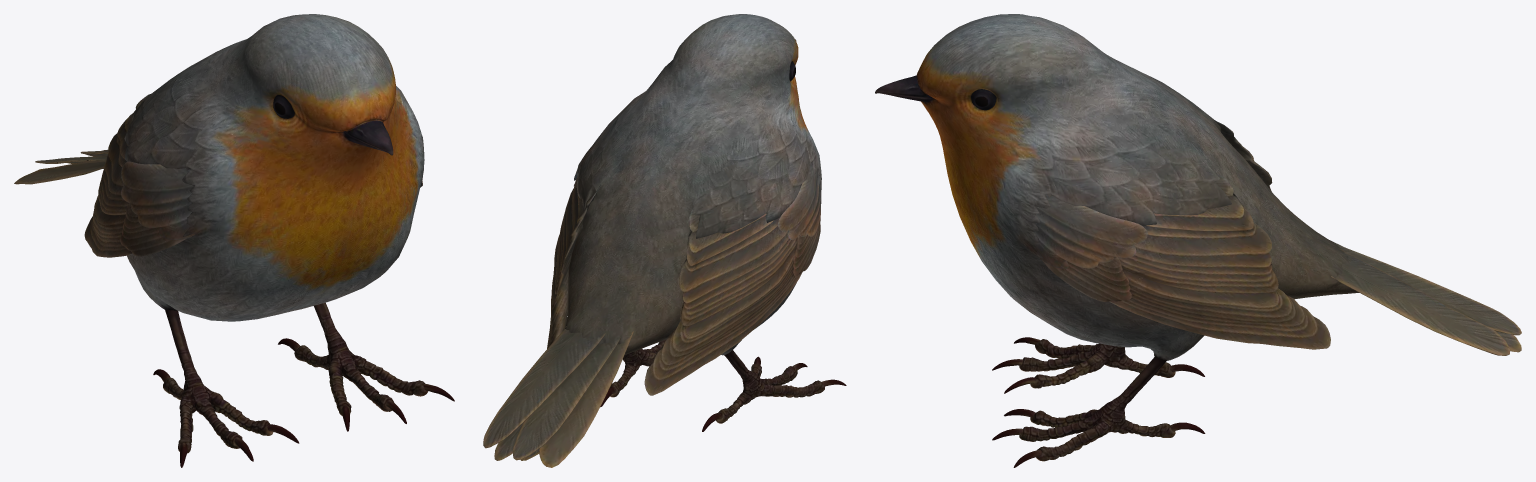
File: european-robin.glb
The picture shows the model from 3 angles, left to right: view 1: azimuth 30°, elevation 25°; view 2: azimuth 150°, elevation 25°; view 3: azimuth 270°, elevation 25°; orthographic projection. The views are drawn at different scales.
Visible parts, largest first — view 1: Object_4; view 2: Object_4; view 3: Object_4.
Part boxes in pixels (box(x1,y1,x2,y2)): Object_4: box(14, 14, 454, 467); Object_4: box(483, 14, 846, 467); Object_4: box(875, 14, 1521, 467).
Size of what is drawn, in the model's own units: 2.36 by 3.41 by 5.17.
1 material, 1 textured.
